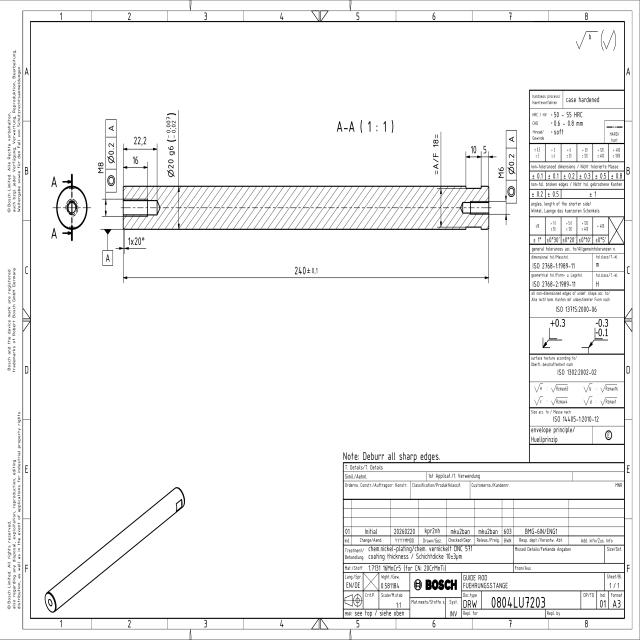dimension: (166, 111, 177, 179), (432, 133, 440, 175), (294, 265, 318, 275), (128, 236, 145, 246), (133, 135, 147, 146), (97, 161, 104, 174), (498, 166, 504, 179), (470, 144, 477, 154), (132, 155, 139, 165), (482, 144, 487, 155)
